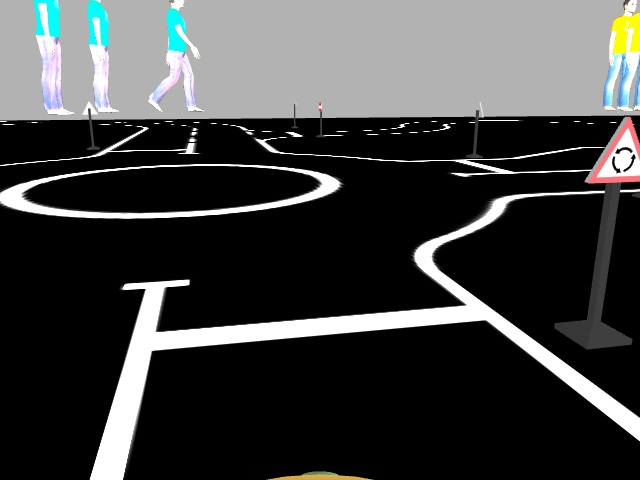Roundabout: (584, 115, 639, 189)
